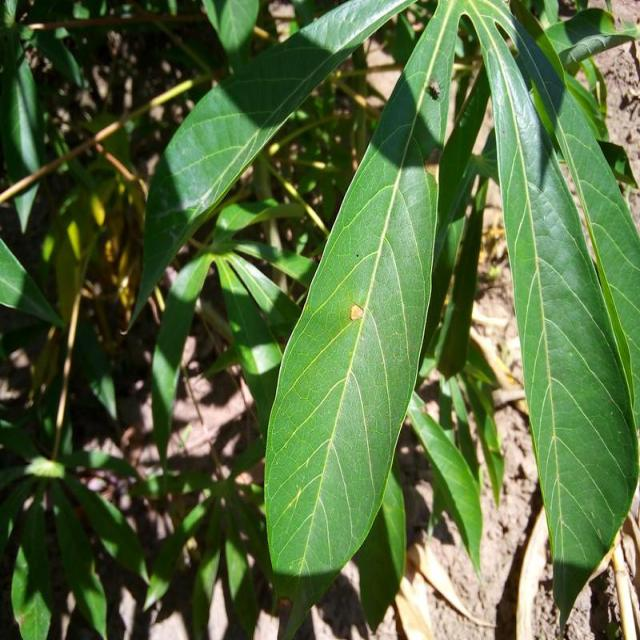cassava leaf: (262, 1, 460, 605), (461, 0, 638, 628), (122, 0, 416, 334)
